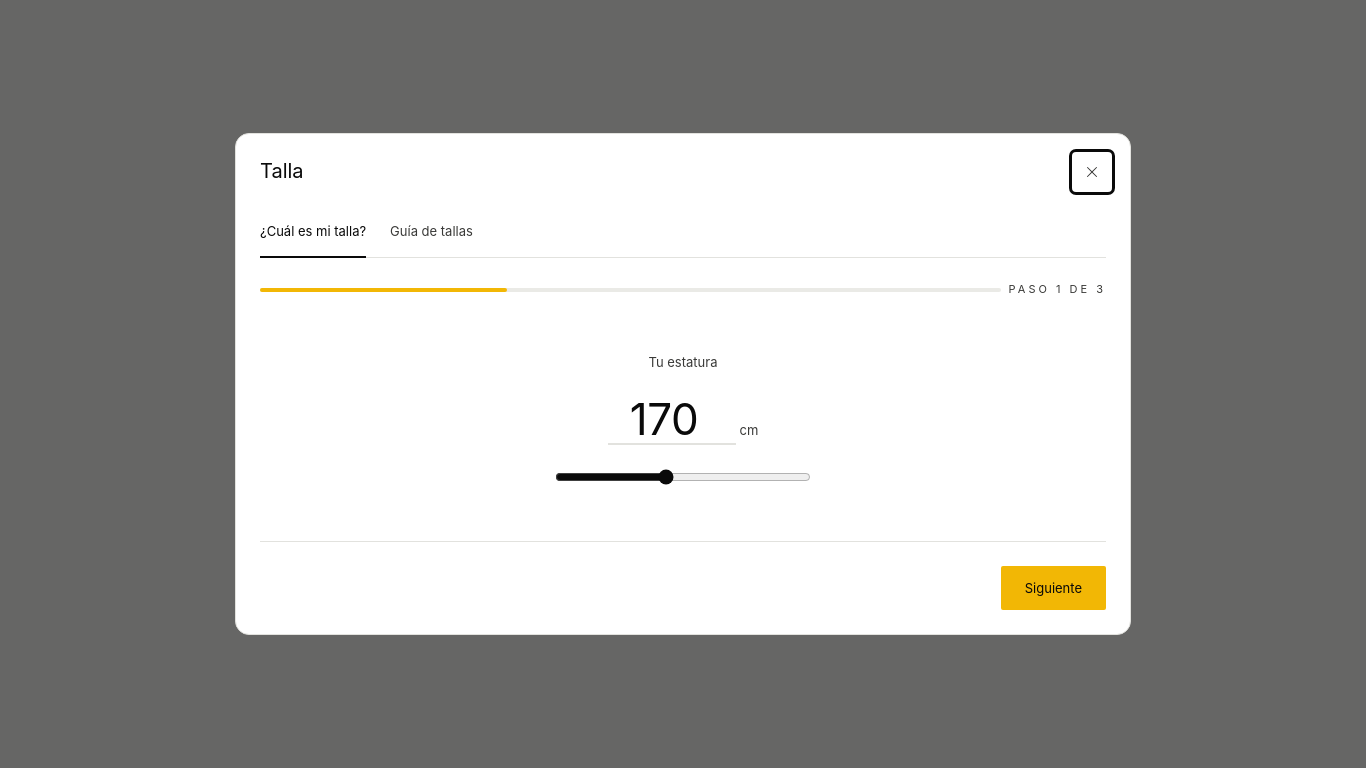
Test: SizeGuideModal › finder tab starts on step 1 (height) and walks forward through the 3-step wizard
The image size is (1366, 768).
Expected: the text "Paso 1 de 3" is shown, [1009,282,1106,297]
Expected: the number field labelled "Tu estatura" is shown, [608,396,736,445]
Click the button named "Siguiente" at (1053, 588), box [1001,566,1106,610]
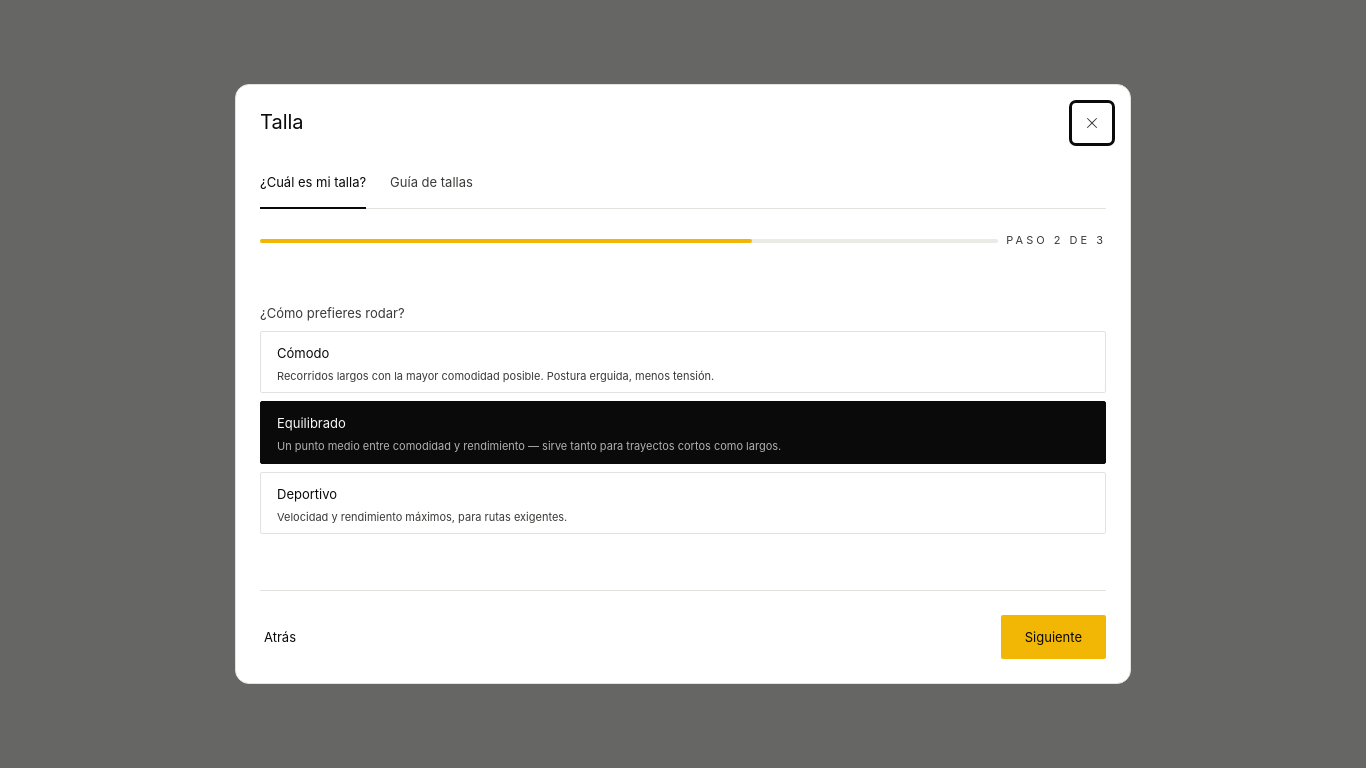
Expected: the text "Paso 2 de 3" is shown, [1006,233,1106,248]
Expected: the element named "¿Cómo prefieres rodar?" is shown, [260,331,1106,534]
Click the 2nd button named "Siguiente" at (1053, 637), box [1001,615,1106,659]
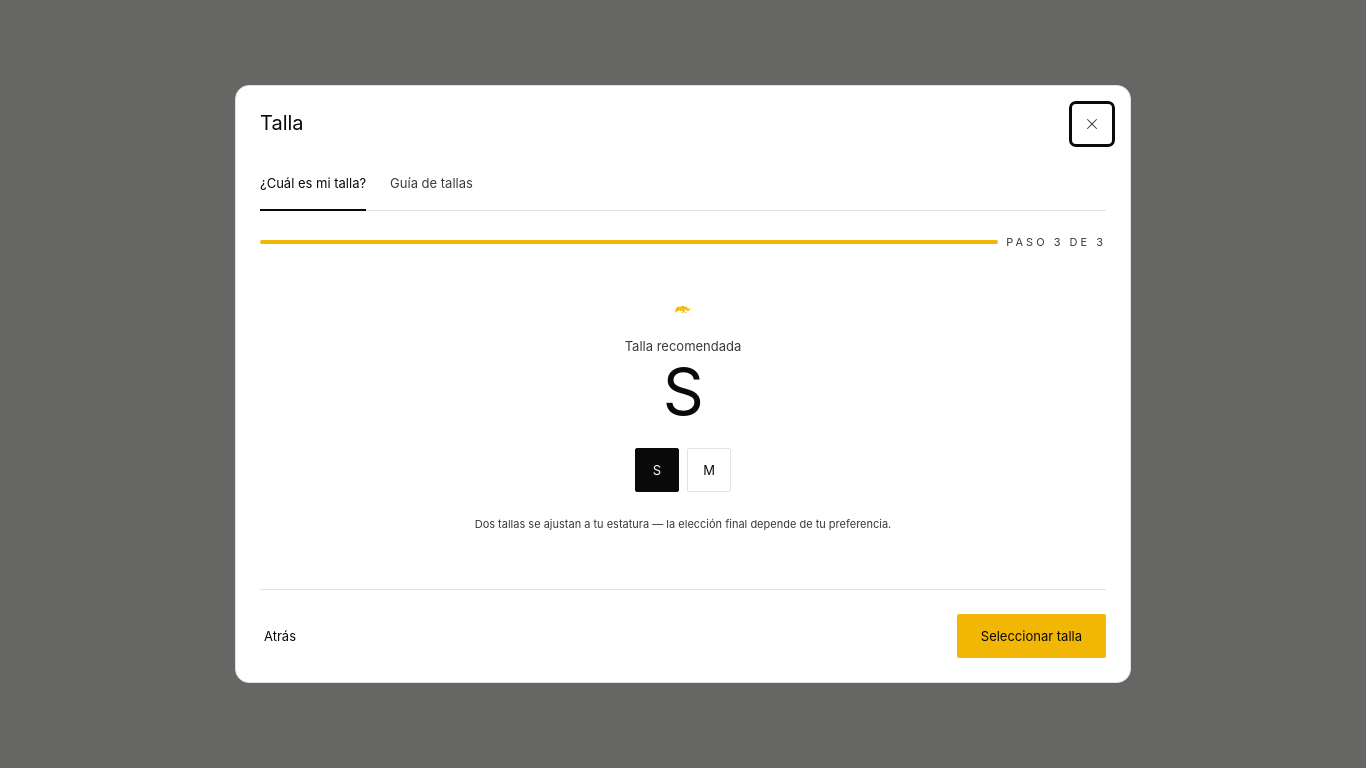
Expected: the text "S" is shown, [663,353,703,430]
Expected: the text "Paso 3 de 3" is shown, [1006,234,1106,250]
